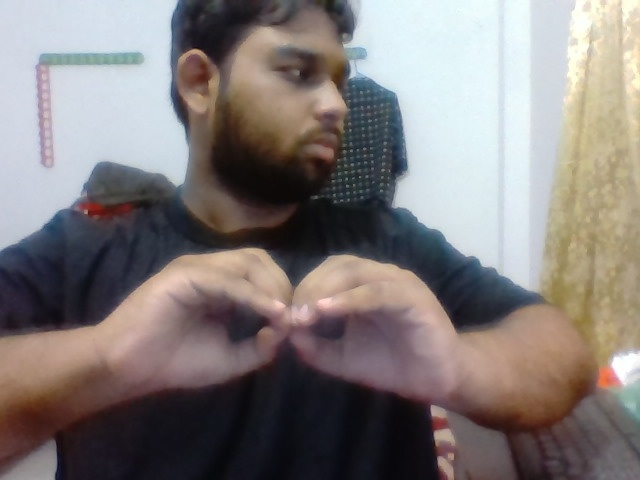B: (107, 237, 461, 434)
